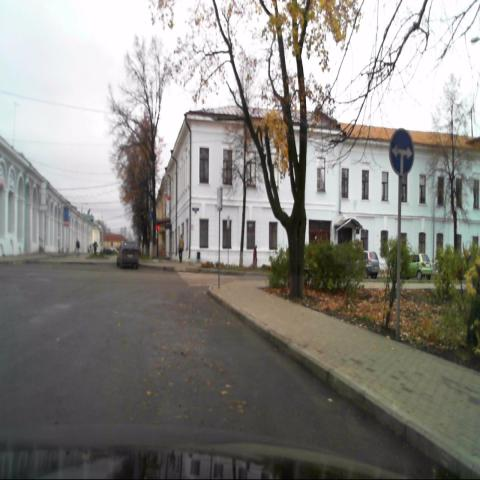4_1_6: (388, 127, 414, 177)
